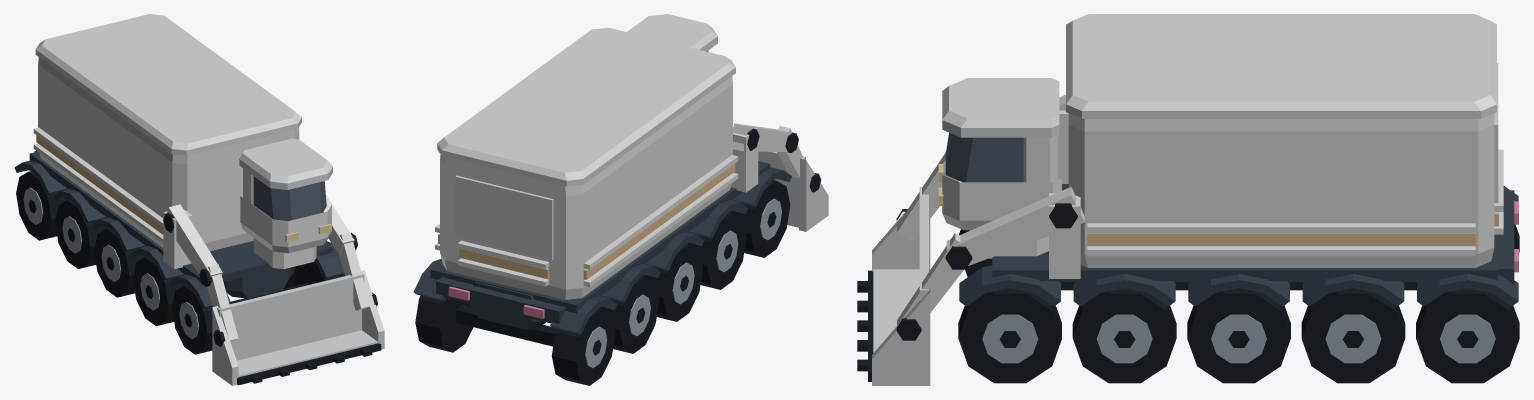
The model's file is multi-wheel-crawler-loader-609591.glb.
The picture shows the model from 3 angles, left to right: view 1: azimuth 30°, elevation 25°; view 2: azimuth 150°, elevation 25°; view 3: azimuth 270°, elevation 25°; orthographic projection. The views are drawn at different scales.
Visible parts, largest first — view 1: multi-wheel-crawler-loader, bucket, boom-lower, wheel-3r, wheel-4r, wheel-2r, wheel-5r, wheel-1r, boom-upper, wheel-1l; view 2: multi-wheel-crawler-loader, wheel-5r, wheel-2r, wheel-1r, wheel-3r, wheel-4r, bucket, wheel-5l, boom-lower, boom-upper; view 3: multi-wheel-crawler-loader, bucket, wheel-2l, wheel-4l, wheel-3l, wheel-1l, wheel-5l, boom-lower, boom-upper.
Boxes of the visible parts, x1=… form: multi-wheel-crawler-loader: x1=14, y1=14, x2=344, y2=308; bucket: x1=212, y1=270, x2=384, y2=385; boom-lower: x1=167, y1=194, x2=357, y2=286; wheel-3r: x1=94, y1=228, x2=147, y2=297; wheel-4r: x1=55, y1=199, x2=108, y2=268; wheel-2r: x1=133, y1=256, x2=186, y2=326; wheel-5r: x1=16, y1=171, x2=69, y2=240; wheel-1r: x1=172, y1=285, x2=212, y2=354; boom-upper: x1=207, y1=232, x2=369, y2=341; wheel-1l: x1=293, y1=261, x2=344, y2=285; multi-wheel-crawler-loader: x1=413, y1=14, x2=791, y2=346; wheel-5r: x1=551, y1=308, x2=615, y2=385; wheel-2r: x1=687, y1=212, x2=746, y2=289; wheel-1r: x1=730, y1=180, x2=790, y2=257; wheel-3r: x1=643, y1=244, x2=702, y2=321; wheel-4r: x1=599, y1=276, x2=659, y2=353; bucket: x1=758, y1=151, x2=828, y2=231; wheel-5l: x1=415, y1=295, x2=473, y2=352; boom-lower: x1=733, y1=123, x2=798, y2=152; boom-upper: x1=777, y1=126, x2=802, y2=178; multi-wheel-crawler-loader: x1=938, y1=14, x2=1518, y2=306; bucket: x1=857, y1=187, x2=930, y2=385; wheel-2l: x1=1072, y1=288, x2=1176, y2=383; wheel-4l: x1=1301, y1=288, x2=1405, y2=383; wheel-3l: x1=1187, y1=288, x2=1290, y2=383; wheel-1l: x1=958, y1=288, x2=1061, y2=383; wheel-5l: x1=1416, y1=288, x2=1519, y2=383; boom-lower: x1=945, y1=94, x2=1084, y2=269; boom-upper: x1=897, y1=152, x2=963, y2=325.
Size of the model in its own units: 3.98 by 4.55 by 9.96.
